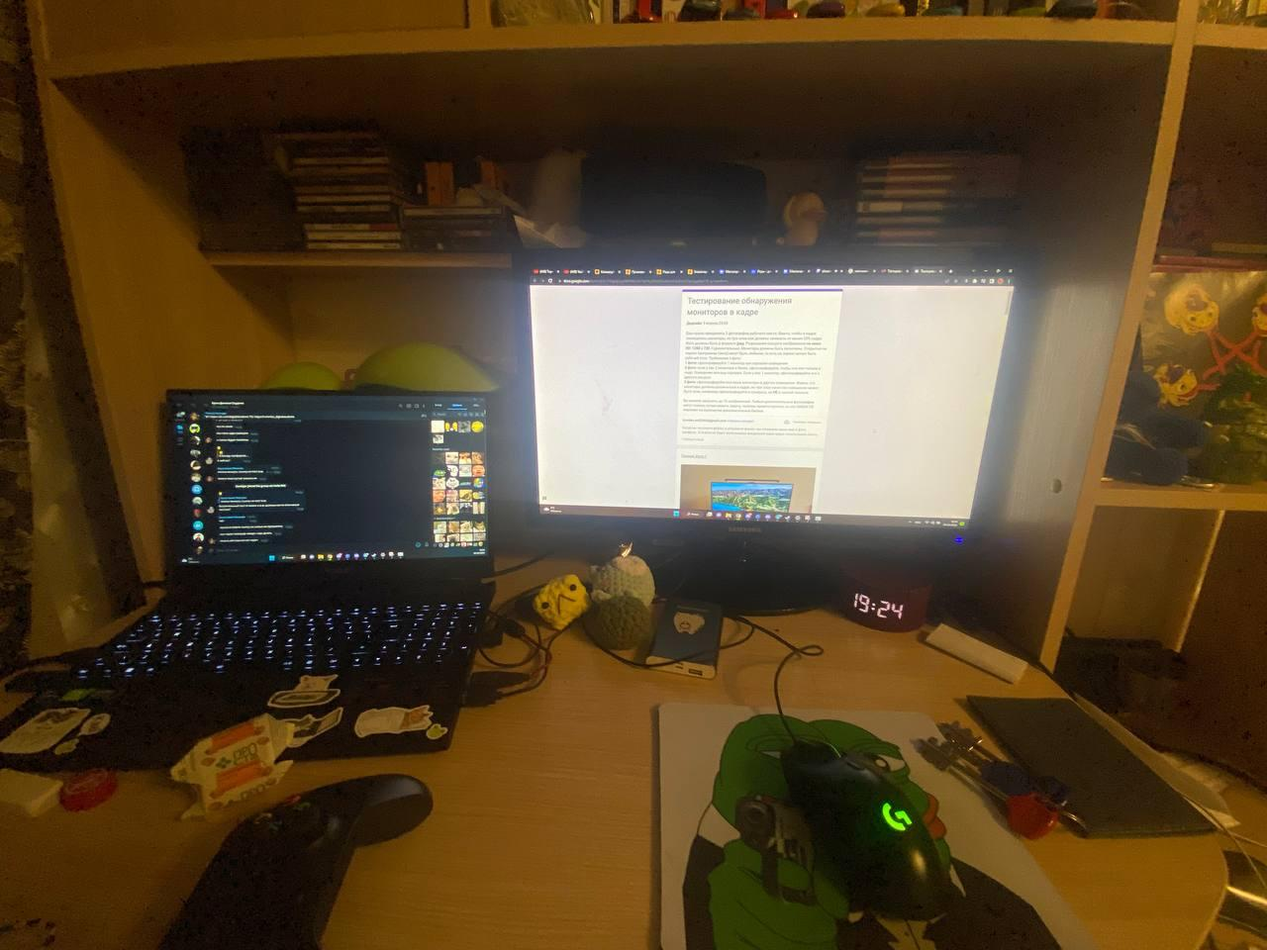monitor: (515, 252, 1049, 567), (157, 374, 505, 610)
